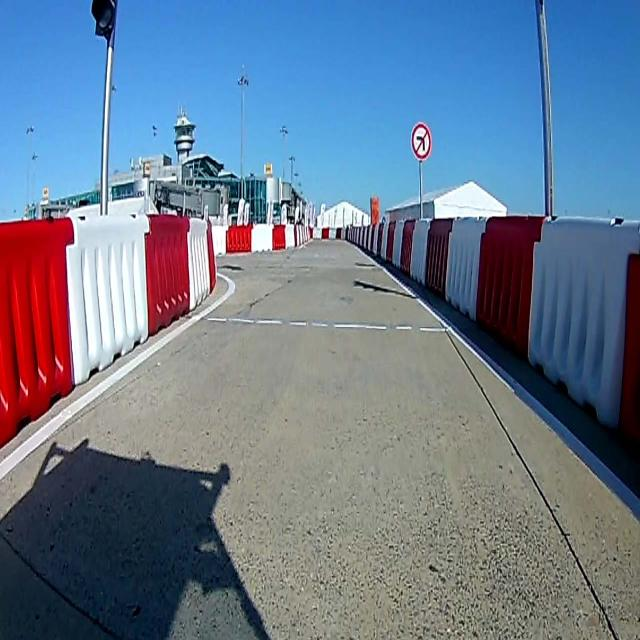soladonulmez: (412, 124, 432, 158)
